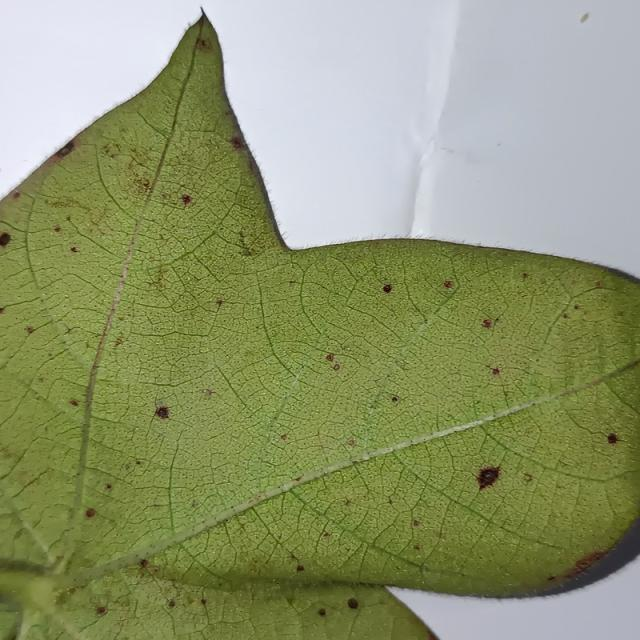Bacterial_Blight: (139, 385, 206, 432), (554, 547, 612, 581), (477, 455, 502, 491), (246, 487, 277, 506), (146, 270, 169, 291), (581, 375, 610, 390), (55, 587, 76, 607), (138, 558, 158, 578), (617, 357, 640, 374), (102, 141, 123, 159), (132, 176, 152, 194), (324, 353, 342, 372), (57, 142, 75, 157), (154, 406, 170, 419), (197, 38, 211, 51), (0, 232, 12, 246), (231, 137, 244, 149), (606, 433, 619, 444), (180, 194, 192, 205), (347, 598, 359, 609), (85, 508, 96, 518), (240, 248, 252, 257), (113, 338, 123, 348), (203, 389, 214, 398), (382, 284, 392, 293), (443, 280, 453, 289), (482, 319, 492, 328), (96, 606, 106, 615), (523, 473, 533, 482), (64, 326, 74, 335), (426, 634, 440, 640), (343, 498, 352, 507), (140, 559, 148, 568), (325, 353, 333, 361), (26, 327, 34, 335), (318, 608, 326, 616), (400, 362, 408, 370), (69, 400, 78, 407), (70, 246, 79, 253), (547, 575, 556, 582), (190, 499, 197, 508), (492, 368, 500, 375), (216, 299, 223, 307), (296, 565, 304, 572), (53, 225, 61, 232), (13, 192, 21, 199), (0, 306, 7, 314), (124, 463, 131, 471), (391, 396, 398, 403), (281, 434, 288, 441), (413, 520, 420, 527), (348, 439, 355, 446), (168, 600, 175, 607), (522, 272, 529, 279), (105, 483, 112, 490), (595, 281, 602, 288), (294, 476, 302, 482), (288, 280, 297, 285), (201, 598, 207, 605), (323, 532, 330, 538), (563, 313, 569, 319), (413, 545, 420, 550), (574, 305, 580, 310), (136, 460, 141, 465), (224, 111, 229, 116)
Cotton: (0, 16, 639, 639)
